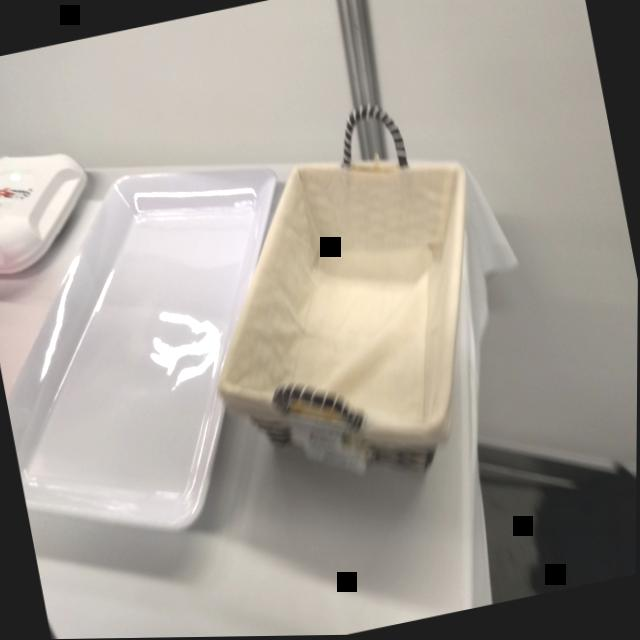basket: (166, 83, 525, 523)
